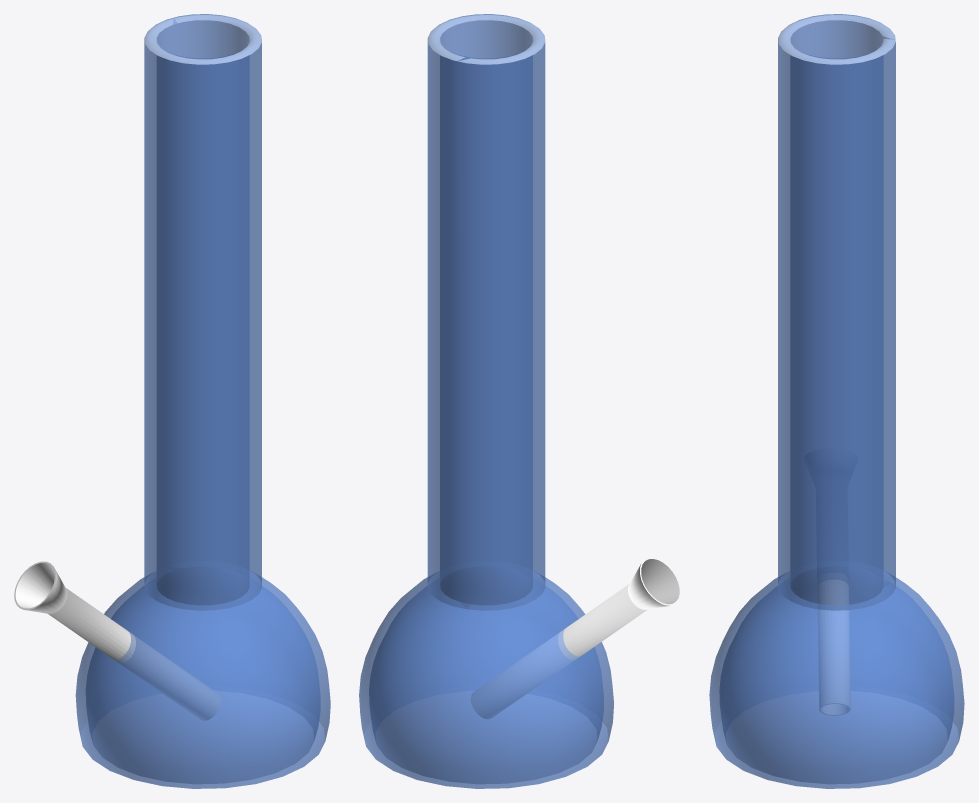
The model's file is Beaker.fbx.
3 renders of one model, left to right at view 1: azimuth 30°, elevation 25°; view 2: azimuth 150°, elevation 25°; view 3: azimuth 270°, elevation 25°, orthographic.
Parts seen in each view (by area): view 1: Model, Chillum_inkl__Kopf1; view 2: Model, Chillum_inkl__Kopf1; view 3: Model, Chillum_inkl__Kopf1.
Part boxes in pixels (bbox=[...]): Model: bbox=[75, 14, 330, 788]; Chillum_inkl__Kopf1: bbox=[14, 561, 220, 720]; Model: bbox=[359, 14, 613, 788]; Chillum_inkl__Kopf1: bbox=[471, 557, 680, 718]; Model: bbox=[709, 14, 964, 788]; Chillum_inkl__Kopf1: bbox=[817, 579, 850, 715].
Bounding box in the file's own units: 65.23 × 147 × 48.5.
